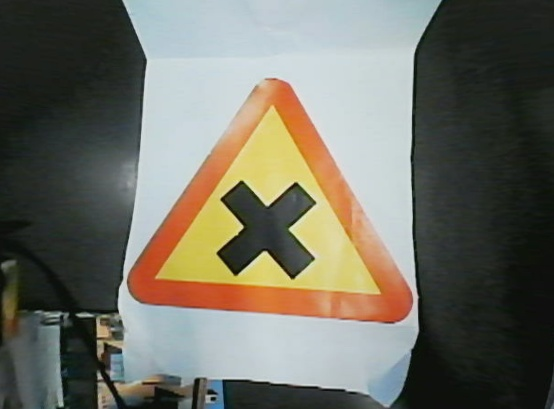junction: (127, 68, 416, 330)
